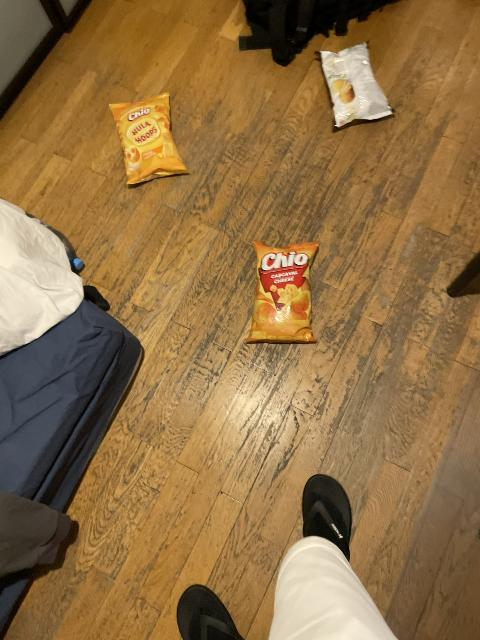Chio Cascaval 125g: (245, 239, 320, 344)
Chio Hula Hoops Cheese 70g: (108, 95, 191, 187)
Lays Beef Grilled Ribs 125g: (318, 43, 394, 128)
